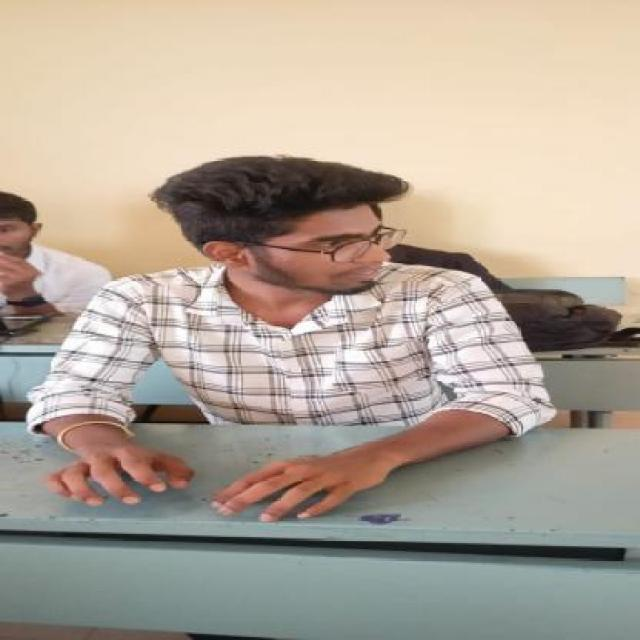cheating: (36, 137, 560, 527)
